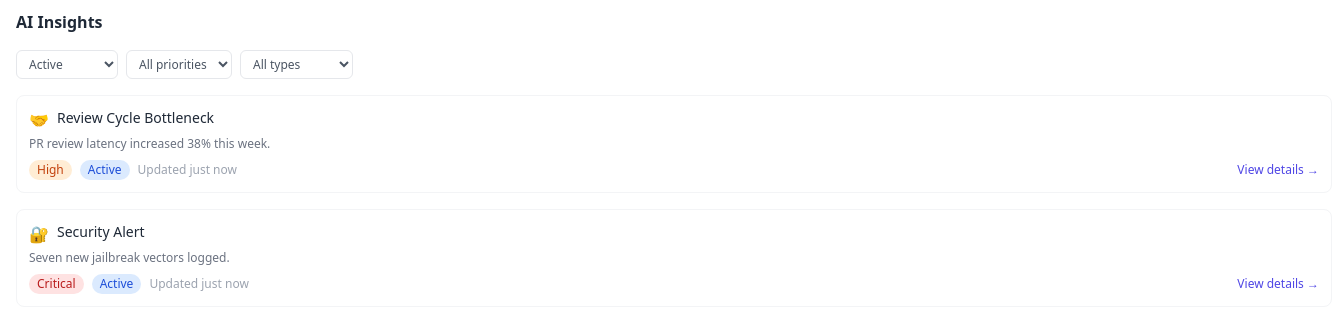
it: AIInsightsPanel › filters by type
Select "security" in the dropdown named "Filter by type" at (296,64), box x1=240 y1=50 x2=353 y2=79
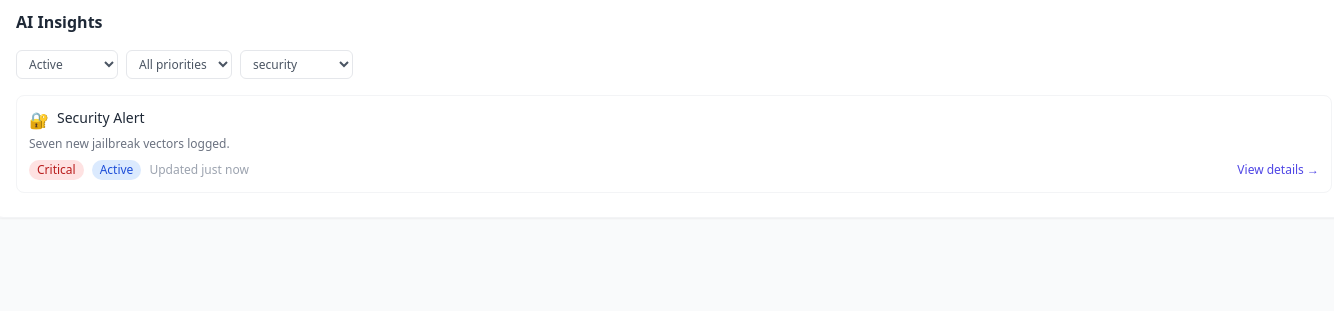
Expected: the link "Security Alert" is shown, x1=57 y1=108 x2=144 y2=127
Expected: the link "Review Cycle Bottleneck" is gone
